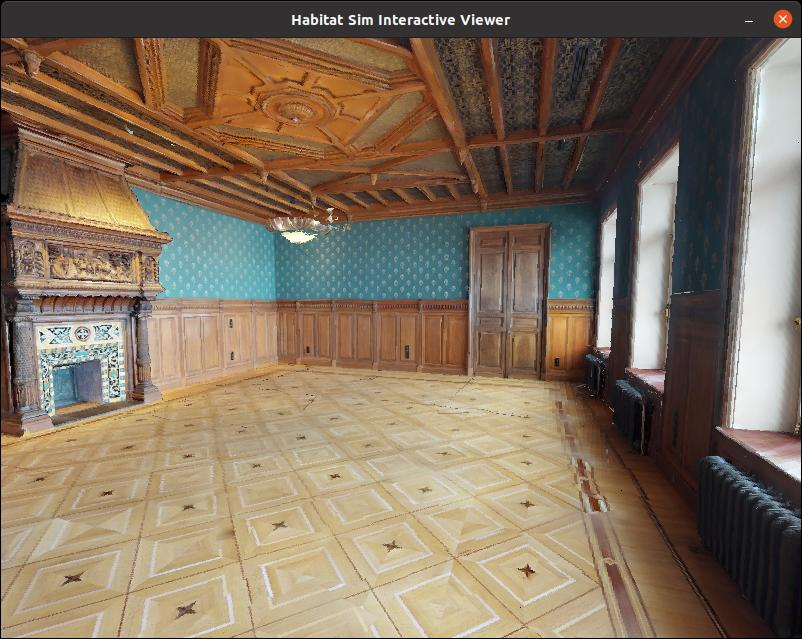door: (461, 221, 556, 403)
